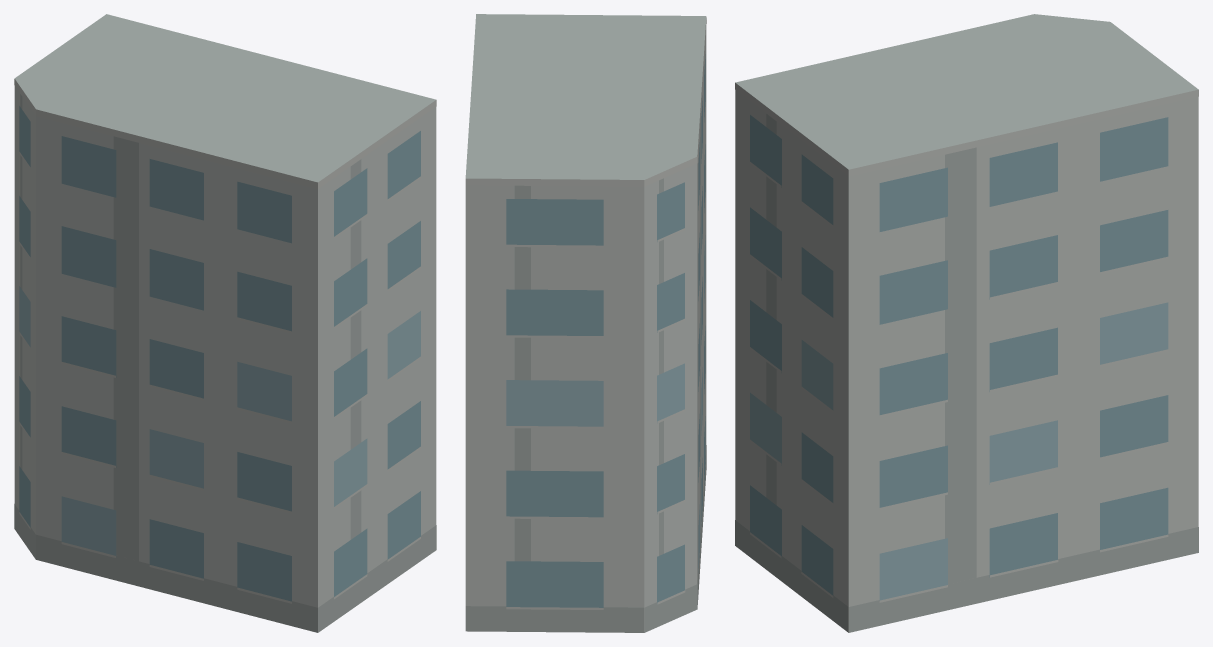
The model's file is survey-upis-32704879.glb.
3 views of the same model, side by side, from view 1: azimuth 30°, elevation 25°; view 2: azimuth 150°, elevation 25°; view 3: azimuth 270°, elevation 25° (orthographic). The views are drawn at different scales.
Visible parts, largest first — view 1: survey-upis-32704879.tmp; view 2: survey-upis-32704879.tmp; view 3: survey-upis-32704879.tmp.
Part boxes in pixels (<box>): survey-upis-32704879.tmp: <box>14,14,436,632</box>; survey-upis-32704879.tmp: <box>465,14,706,632</box>; survey-upis-32704879.tmp: <box>735,14,1198,632</box>.
Bounding box in the file's own units: 11.65 × 16.15 × 14.66.
